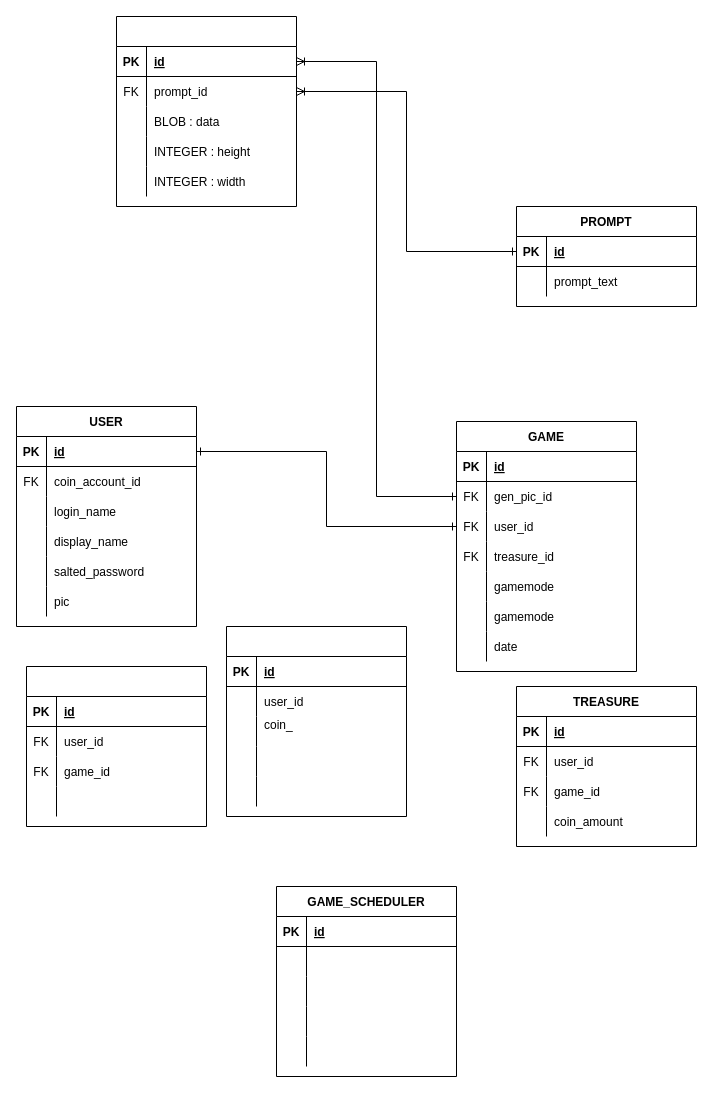
Some shapes in this 713 by 1093 pixel diagram are drawn without their labels. The box of each missing label's shape, as (x1, y1, x2, y2) in pixels:
COIN_ACCOUNT: (226, 626, 406, 816)
GAME_WINNER_MAP: (26, 666, 206, 826)
gen_pic: (116, 16, 296, 206)
